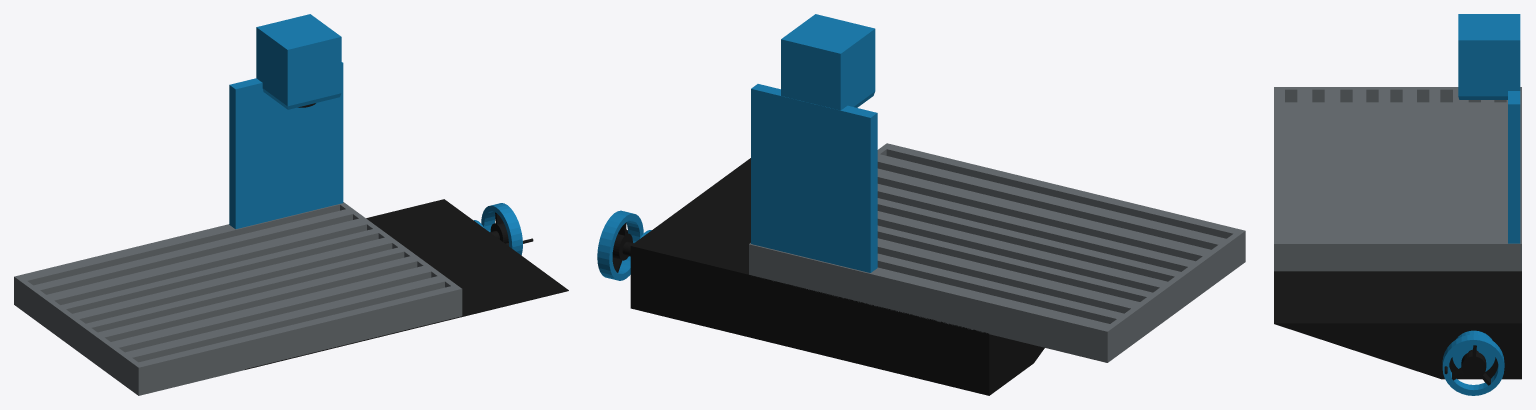
Rendered from Fräsmaschine links.fbx.
The picture shows the model from 3 angles, left to right: view 1: azimuth 30°, elevation 25°; view 2: azimuth 150°, elevation 25°; view 3: azimuth 270°, elevation 25°; orthographic projection. The views are drawn at different scales.
Visible parts, largest first — view 1: Zylinder.001, Zylinder.004; view 2: Zylinder.004, Zylinder.001; view 3: Zylinder.001, Zylinder.004.
Part boxes in pixels (x1,y1,x2,y2): Zylinder.001: (14,202,462,395); Zylinder.004: (229,14,568,369); Zylinder.004: (597,14,1044,395); Zylinder.001: (749,143,1245,362); Zylinder.001: (1274,87,1521,271); Zylinder.004: (1274,14,1521,395).
Size of the model in its own units: 1782 by 975 by 800.
